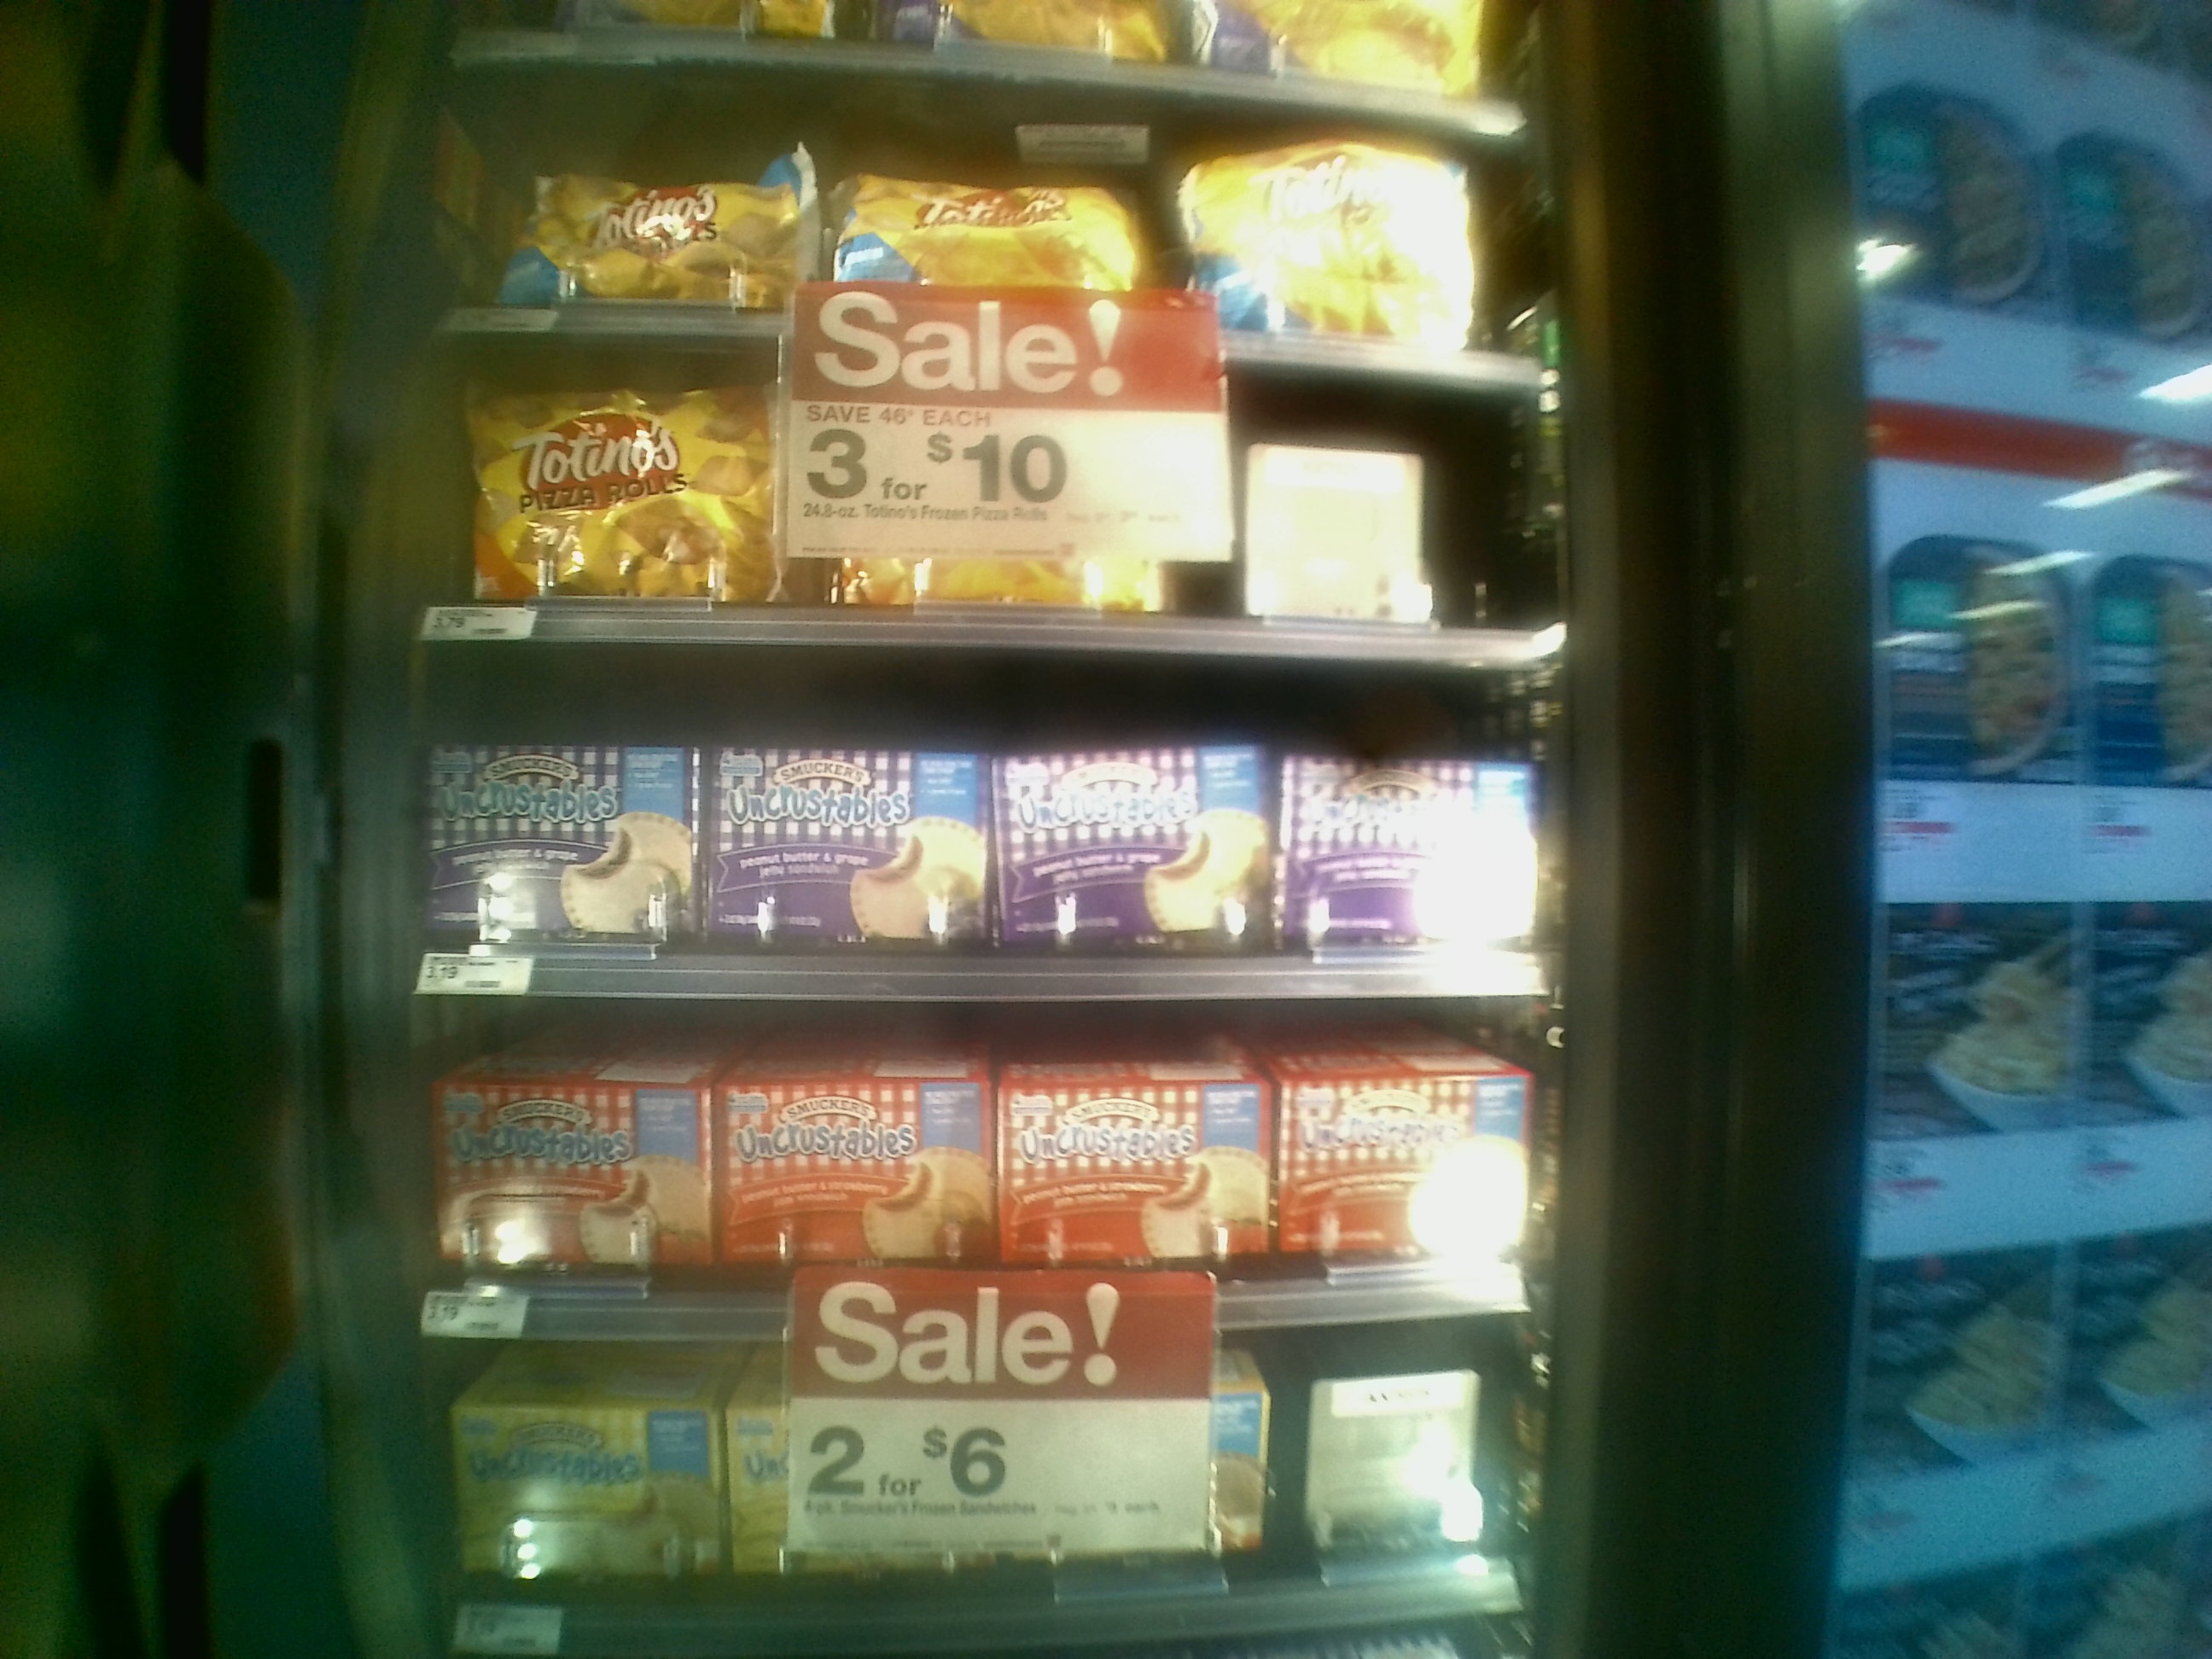shelf: (427, 317, 1554, 688), (409, 659, 1548, 1007), (394, 993, 1533, 1335)
